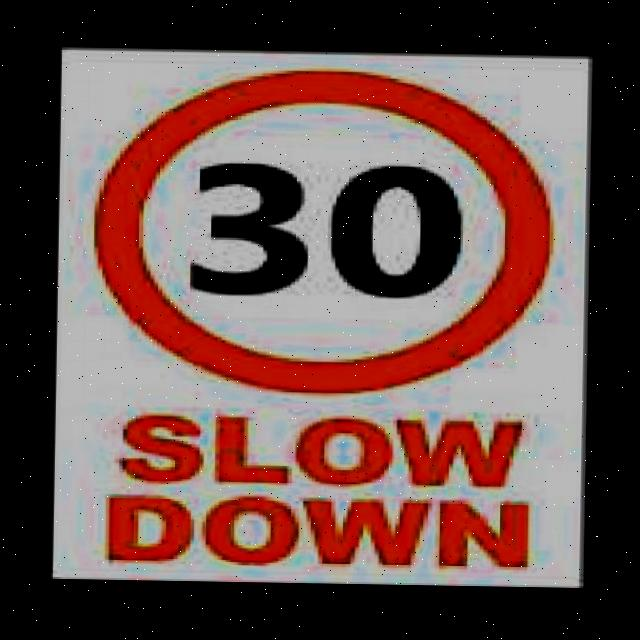Ograniczenie predkosci do 30: (144, 119, 511, 339)
